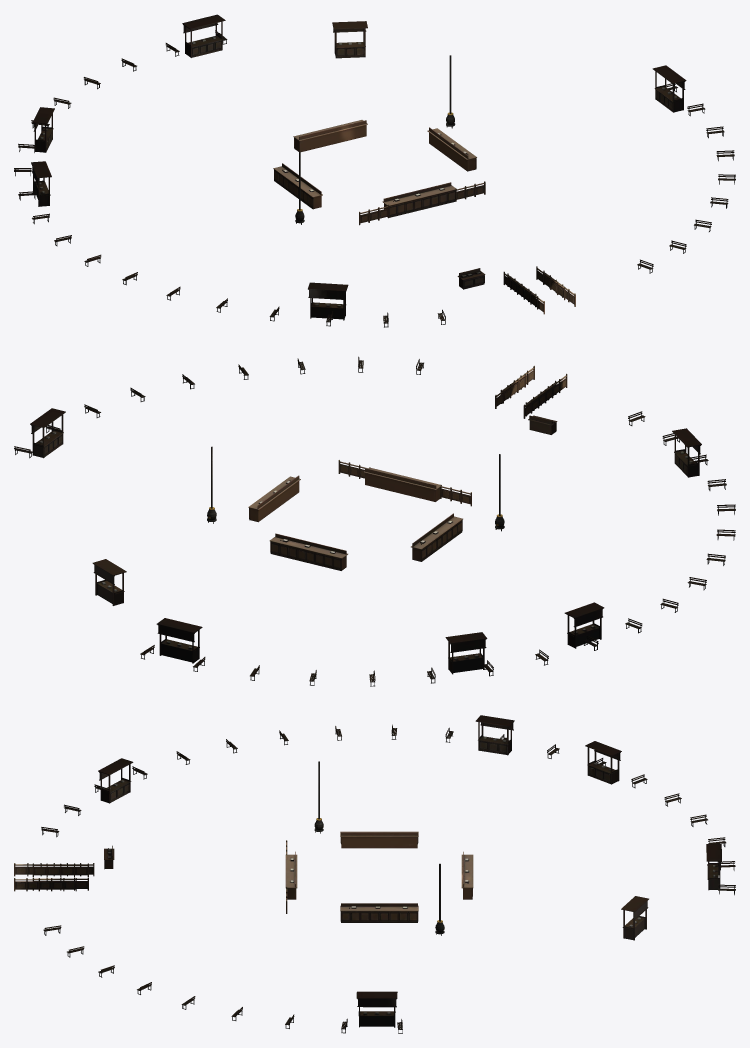
File: castle_props.glb
3 renders of one model, top to bottom at view 1: azimuth 30°, elevation 25°; view 2: azimuth 150°, elevation 25°; view 3: azimuth 270°, elevation 25°, orthographic. The views are drawn at different scales.
Parts seen in each view (by area): view 1: booth, counter, bench, partition, stove; view 2: booth, counter, bench, partition; view 3: booth, counter, bench, partition.
Boxes of the visible parts, box(x1,y1,x2,y2) form: booth: box(31, 14, 686, 320); counter: box(273, 120, 485, 289); bench: box(14, 30, 735, 327); partition: box(359, 181, 575, 314); stove: box(295, 55, 455, 224); booth: box(30, 408, 701, 674); counter: box(248, 415, 557, 570); bench: box(14, 356, 735, 686); partition: box(338, 365, 567, 506); booth: box(98, 715, 721, 1027); counter: box(104, 831, 473, 922); bench: box(41, 724, 735, 1033); partition: box(14, 840, 287, 913).
Bounding box in the file's own units: 64.94 × 7.1 × 65.7.
5 materials, 5 textured.
